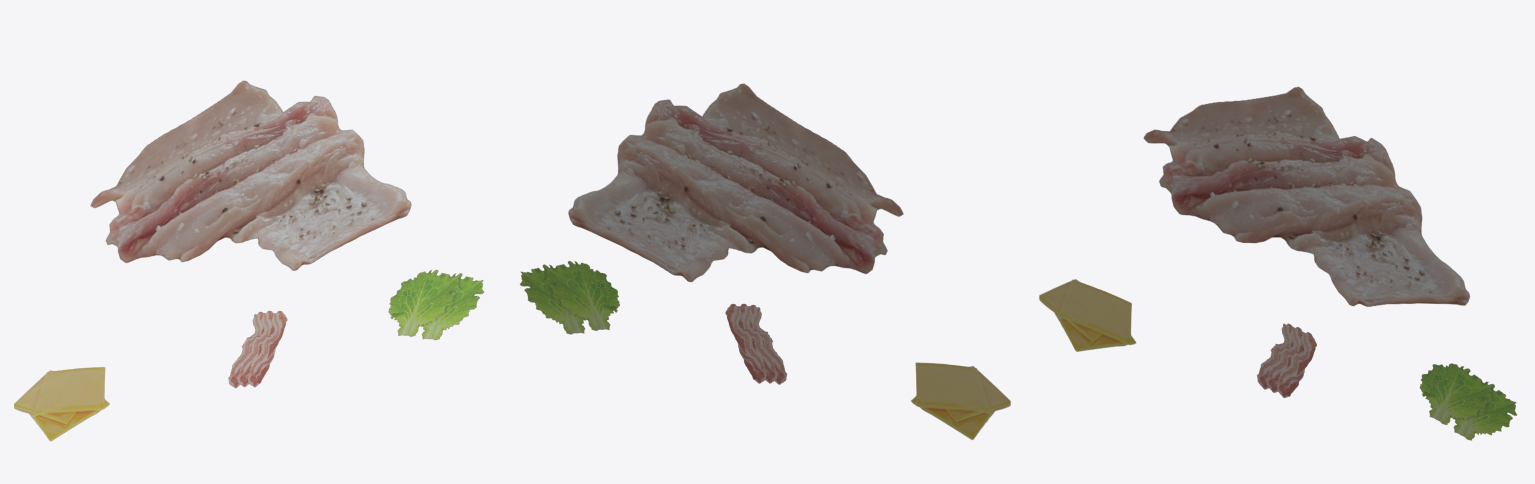
File: Rabbit_Game01.glb
The picture shows the model from 3 angles, left to right: view 1: azimuth 30°, elevation 25°; view 2: azimuth 150°, elevation 25°; view 3: azimuth 330°, elevation 25°; orthographic projection. The views are drawn at different scales.
Parts seen in each view (by area): view 1: RabbitMeat, Lettuce, Cheese, Bacon; view 2: RabbitMeat, Lettuce, Cheese, Bacon; view 3: RabbitMeat, Lettuce, Cheese, Bacon.
Part boxes in pixels (<box>): RabbitMeat: <box>90,80,411,270</box>; Lettuce: <box>388,270,484,340</box>; Cheese: <box>14,367,109,441</box>; Bacon: <box>228,310,287,388</box>; RabbitMeat: <box>568,83,903,281</box>; Lettuce: <box>520,261,619,334</box>; Cheese: <box>911,362,1010,439</box>; Bacon: <box>725,304,786,384</box>; RabbitMeat: <box>1143,86,1469,306</box>; Lettuce: <box>1419,363,1516,440</box>; Cheese: <box>1039,279,1136,351</box>; Bacon: <box>1257,323,1316,397</box>.
Bounding box in the file's own units: 5.97 × 4.23 × 0.2877.
Materials: 4 (4 with a texture image).
